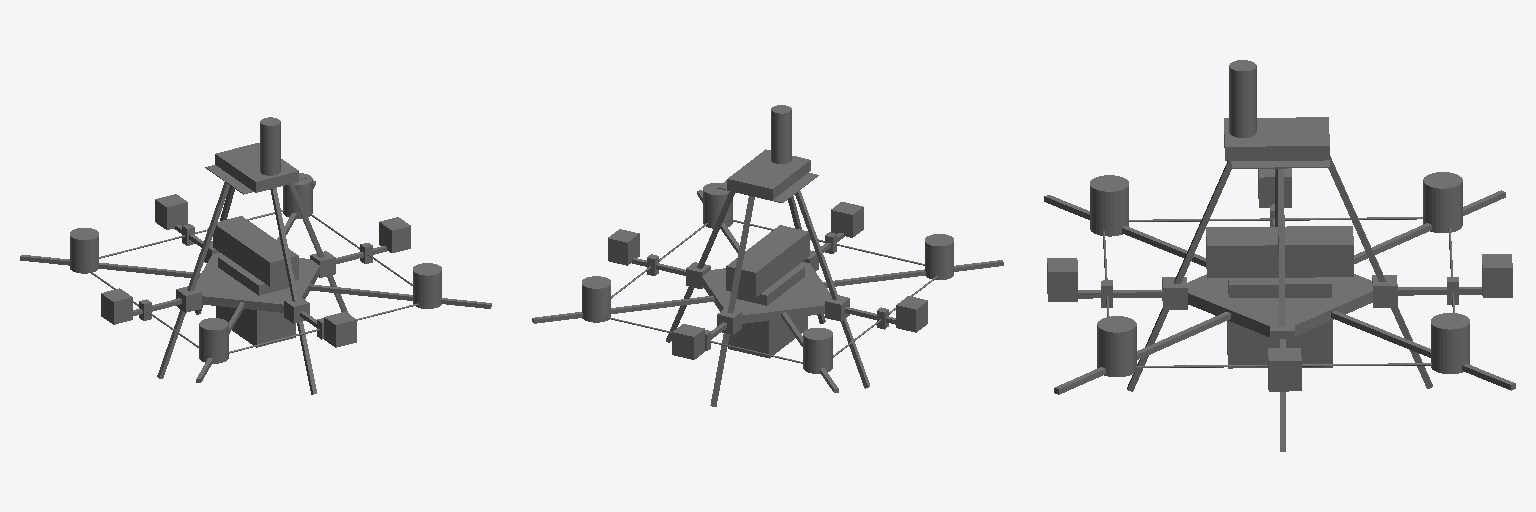
robot.urdf — cf2:
<?xml version="1.0" ?>
<!-- 仅仅替换 dae 的 mesh -->
<robot name="cf2">

  <properties arm="0.0397" kf="3.16e-10" km="7.94e-12" thrust2weight="2.25" max_speed_kmh="30" gnd_eff_coeff="11.36859" prop_radius="2.31348e-2" drag_coeff_xy="9.1785e-7" drag_coeff_z="10.311e-7" dw_coeff_1="2267.18" dw_coeff_2=".16" dw_coeff_3="-.11" />

  <link name="base_link"> 

    <inertial>
      <origin rpy="0 0 0" xyz="0 0 0"/>
      <mass value="0.027"/>
      <inertia ixx="1.4e-5" ixy="0.0" ixz="0.0" iyy="1.4e-5" iyz="0.0" izz="2.17e-5"/>
    </inertial>

    <!-- links>
      <carlos url="https://arxiv.org/pdf/1608.05786.pdf" />
      <julian url="https://www.research-collection.ethz.ch/handle/20.500.11850/214143" />
      <mit url="http://groups.csail.mit.edu/robotics-center/public_papers/Landry15.pdf" />
    </links -->

    <visual>
      <origin rpy="0 0 55" xyz="0 0 0"/>
      <geometry>
        <mesh filename="./vswarm_quad.stl" scale="0.3 0.3 0.3"/>
      </geometry> 
      <material name="grey">
        <color rgba=".5 .5 .5 1"/>
      </material> 
    </visual>

    <collision>
      <origin rpy="0 0 0" xyz="0 0 0"/>
      <geometry>
        <cylinder radius=".06" length=".025"/>
      </geometry>
    </collision>  

  </link>

  <link name="prop0_link">
    <inertial>
      <origin rpy="0 0 0" xyz="0.028 -0.028 0"/>
      <mass value="0"/>
      <inertia ixx="0" ixy="0" ixz="0" iyy="0" iyz="0" izz="0"/>
    </inertial>
  </link>
  <joint name="prop0_joint" type="fixed">
    <parent link="base_link"/>
    <child link="prop0_link"/>
  </joint>

  <link name="prop1_link">
    <inertial>
      <origin rpy="0 0 0" xyz="-0.028 -0.028 0"/>
      <mass value="0"/>
      <inertia ixx="0" ixy="0" ixz="0" iyy="0" iyz="0" izz="0"/>
    </inertial>
  </link>
  <joint name="prop1_joint" type="fixed">
    <parent link="base_link"/>
    <child link="prop1_link"/>
  </joint>

  <link name="prop2_link">
    <inertial>
      <origin rpy="0 0 0" xyz="-0.028 0.028 0"/>
      <mass value="0"/>
      <inertia ixx="0" ixy="0" ixz="0" iyy="0" iyz="0" izz="0"/>
    </inertial>
  </link>
  <joint name="prop2_joint" type="fixed">
    <parent link="base_link"/>
    <child link="prop2_link"/>
  </joint>

  <link name="prop3_link">
    <inertial>
      <origin rpy="0 0 0" xyz="0.028 0.028 0"/>
      <mass value="0"/>
      <inertia ixx="0" ixy="0" ixz="0" iyy="0" iyz="0" izz="0"/>
    </inertial>
  </link>
  <joint name="prop3_joint" type="fixed">
    <parent link="base_link"/>
    <child link="prop3_link"/>
  </joint>

  <link name="center_of_mass_link">
    <inertial>
      <origin rpy="0 0 0" xyz="0 0 0"/>
      <mass value="0"/>
      <inertia ixx="0" ixy="0" ixz="0" iyy="0" iyz="0" izz="0"/>
    </inertial>
  </link>
  <joint name="center_of_mass_joint" type="fixed">
    <parent link="base_link"/>
    <child link="center_of_mass_link"/>
  </joint>

</robot>

--- Render facts (derived) ---
The picture shows the robot from 3 angles, left to right: view 1: azimuth 30°, elevation 25°; view 2: azimuth 150°, elevation 25°; view 3: azimuth 270°, elevation 25°; orthographic projection.
Model cf2 with 6 links and 5 joints (5 fixed), rooted at base_link, posed all joints at 0.
Links seen in each view (by area): view 1: base_link; view 2: base_link; view 3: base_link.
Link boxes in pixels (x1=…): base_link: x1=20, y1=117, x2=491, y2=394; base_link: x1=532, y1=105, x2=1003, y2=406; base_link: x1=1044, y1=60, x2=1515, y2=451.
Size in the robot's own frame: 0.1144 by 0.1144 by 0.0868 metres.
Meshes: 1 distinct files referenced, 1 mesh visuals loaded (1 binary STL).
